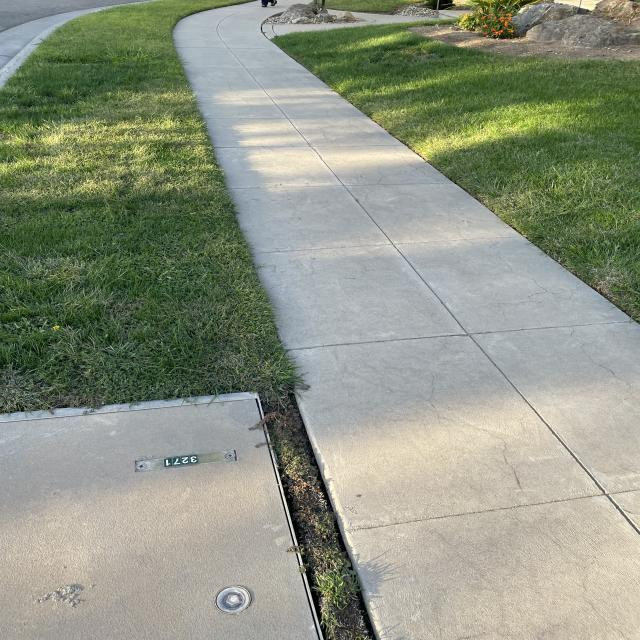walkway: (281, 307, 640, 534), (250, 229, 580, 350), (349, 518, 640, 637), (220, 146, 491, 245), (192, 86, 401, 171), (188, 56, 354, 112), (184, 19, 286, 68)
